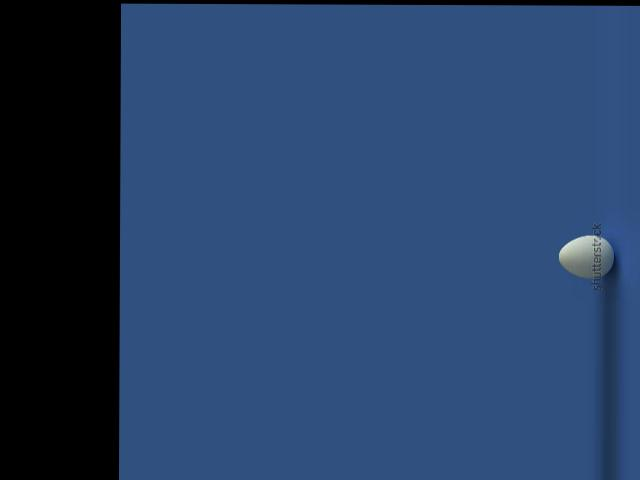egg: (558, 234, 614, 278)
